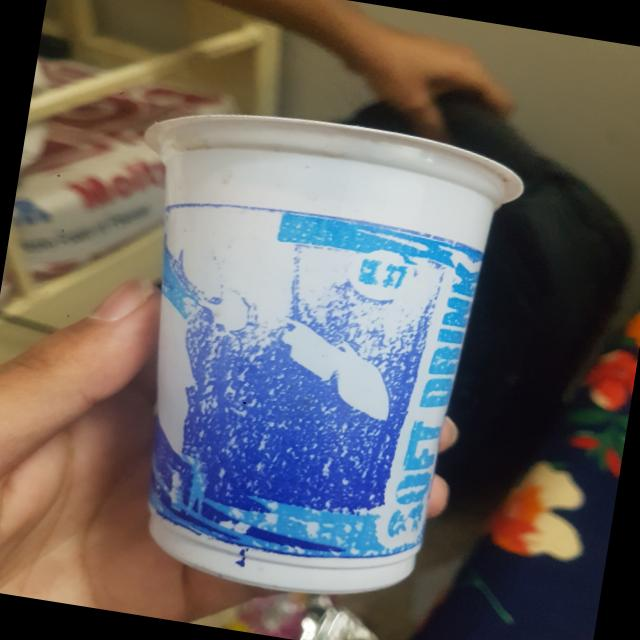general: (77, 91, 531, 618)
